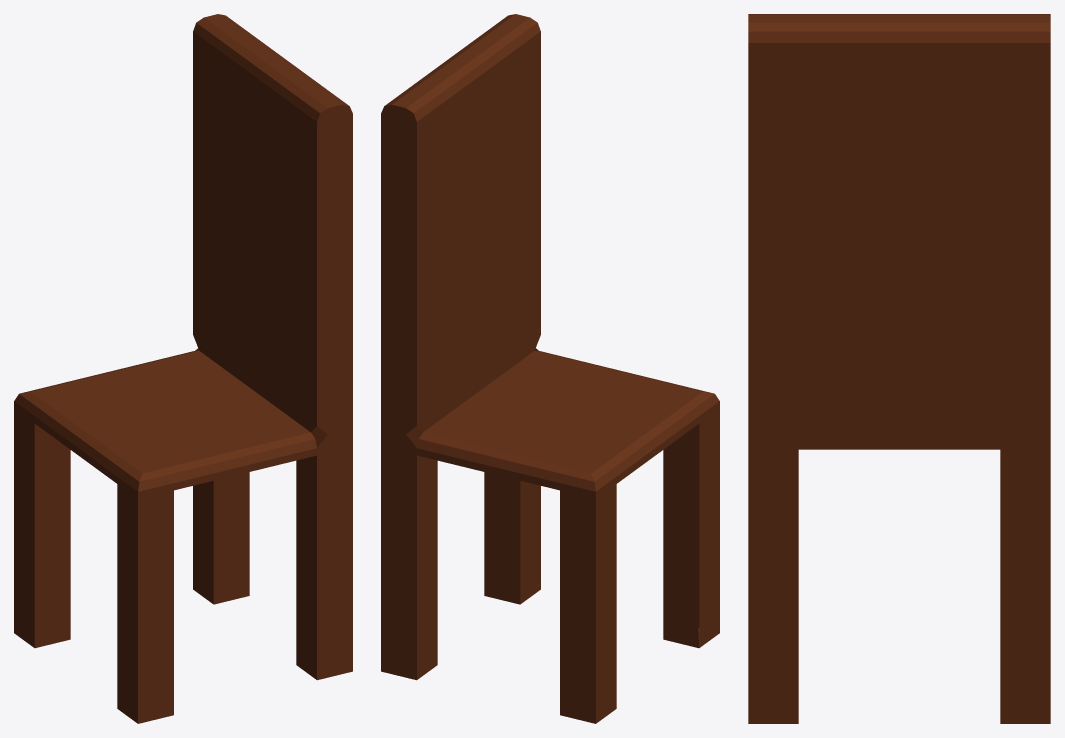
Rendered from cHAIR.fbx.
3 renders of one model, left to right at view 1: azimuth 30°, elevation 25°; view 2: azimuth 150°, elevation 25°; view 3: azimuth 270°, elevation 25°, orthographic. The views are drawn at different scales.
Parts seen in each view (by area): view 1: Cube.015; view 2: Cube.015; view 3: Cube.015.
Boxes of the visible parts, x1=… form: Cube.015: x1=14, y1=14, x2=352, y2=723; Cube.015: x1=381, y1=14, x2=719, y2=723; Cube.015: x1=748, y1=14, x2=1050, y2=723.
Size of the model in its own units: 200 by 507 by 200.
